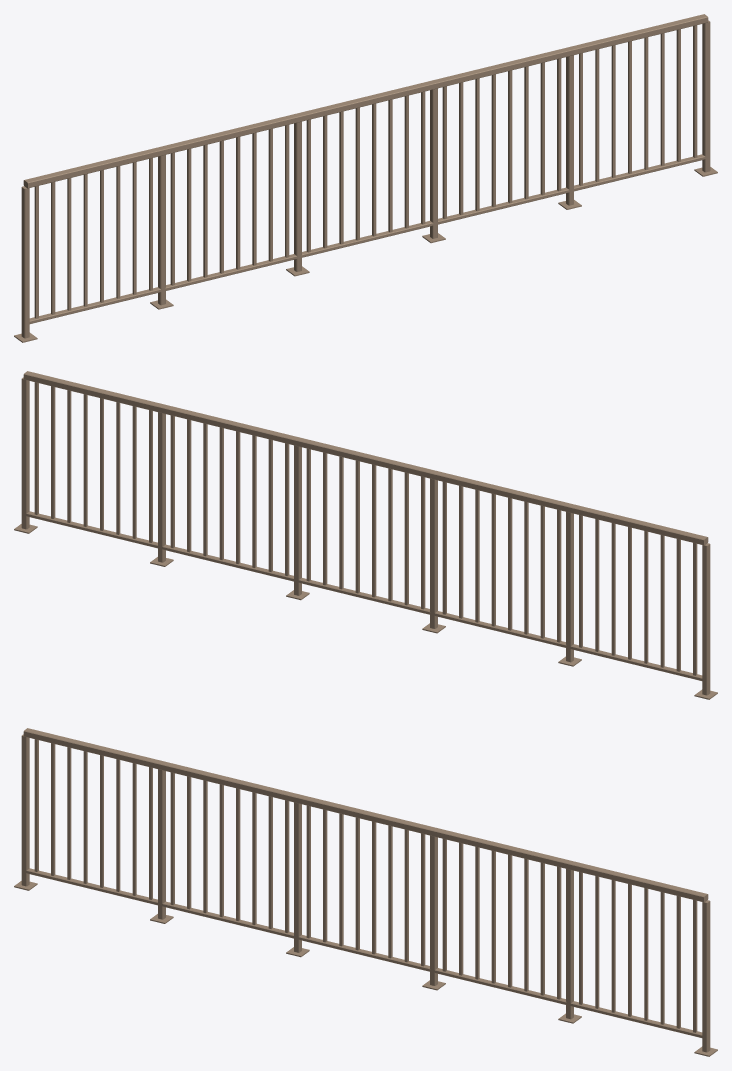
File: gc-s80b-barreaudage-500-quartz-1019.glb
The picture shows the model from 3 angles, top to bottom: view 1: azimuth 30°, elevation 25°; view 2: azimuth 150°, elevation 25°; view 3: azimuth 330°, elevation 25°; orthographic projection.
Visible parts, largest first — view 1: structure; view 2: structure; view 3: structure.
Boxes of the visible parts, box(x1,y1,x2,y2) form: structure: box(14, 14, 717, 342); structure: box(14, 371, 717, 699); structure: box(14, 728, 717, 1056).
Bounding box in the file's own units: 5.11 × 1.1 × 0.11.
